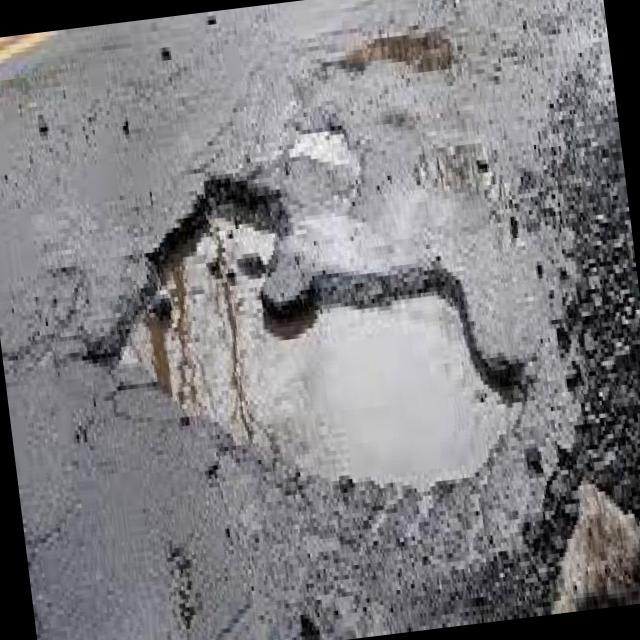Pothole: (119, 171, 508, 482)
